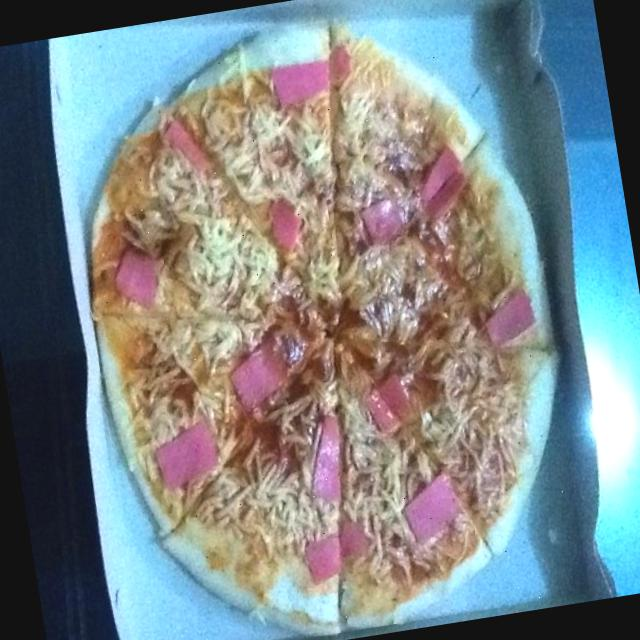pizza: (91, 24, 553, 633)
